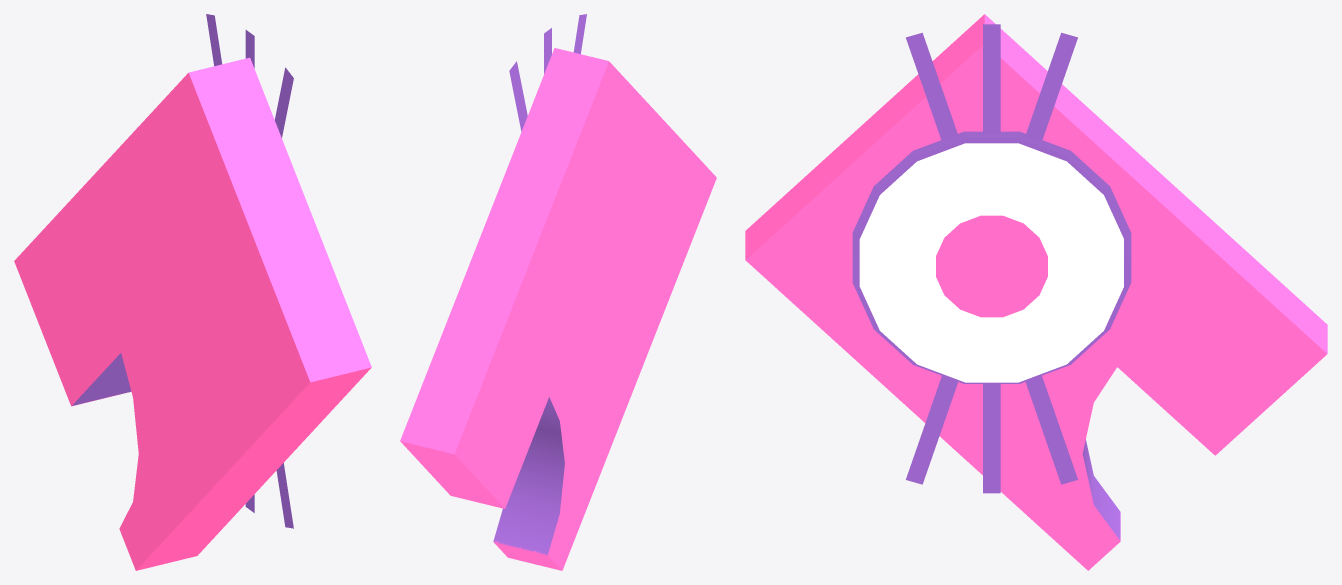
The model's file is portraitKeeper_face_right.glb.
The picture shows the model from 3 angles, left to right: view 1: azimuth 30°, elevation 25°; view 2: azimuth 150°, elevation 25°; view 3: azimuth 270°, elevation 25°; orthographic projection. The views are drawn at different scales.
Visible parts, largest first — view 1: portraitKeeper_face_right; view 2: portraitKeeper_face_right; view 3: portraitKeeper_face_right.
Boxes of the visible parts, box(x1,y1,x2,y2) form: portraitKeeper_face_right: box(14, 14, 371, 570); portraitKeeper_face_right: box(400, 14, 716, 570); portraitKeeper_face_right: box(745, 14, 1327, 570).
Bounding box in the file's own units: 0.2883 × 1.89 × 1.82.
Materials: 4 (1 with a texture image).
